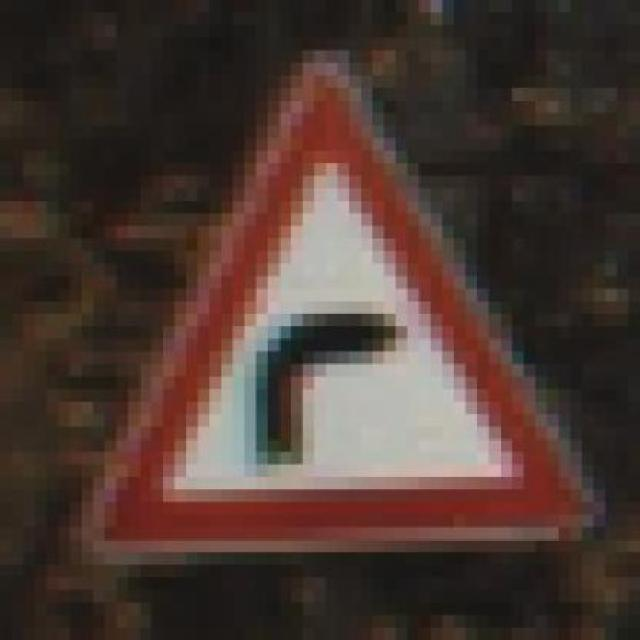Dangerous Rright Curve Ahead: (70, 58, 595, 574)
